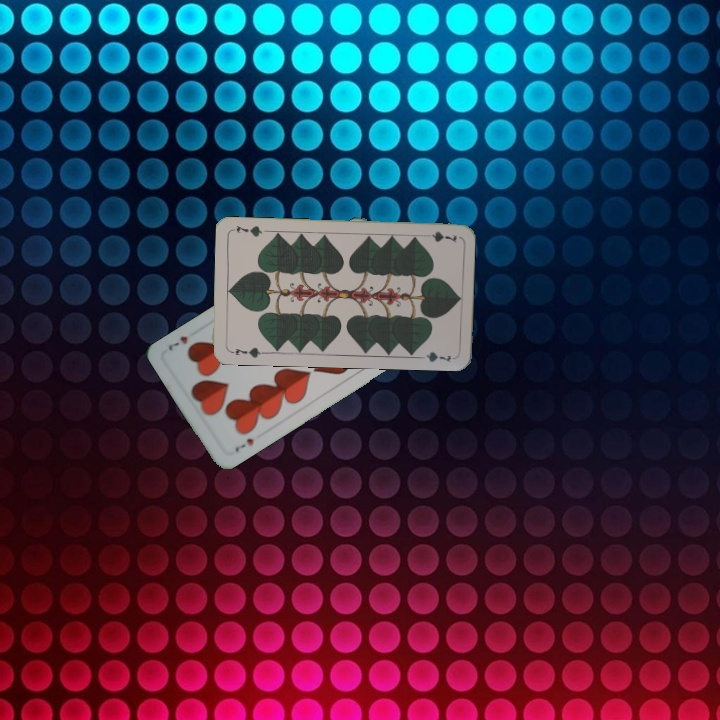G7: (419, 227, 459, 245), (227, 344, 267, 360)
H7: (231, 434, 256, 455)
